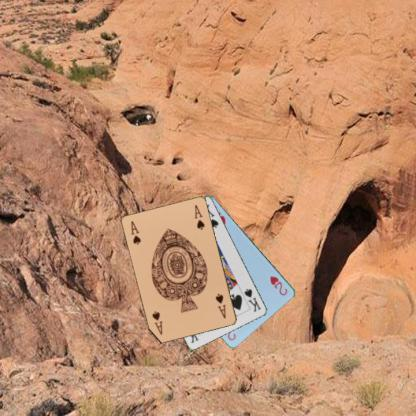2h: (267, 273, 289, 297)
As: (213, 291, 227, 320), (128, 219, 142, 246)
Ks: (242, 286, 262, 313)
